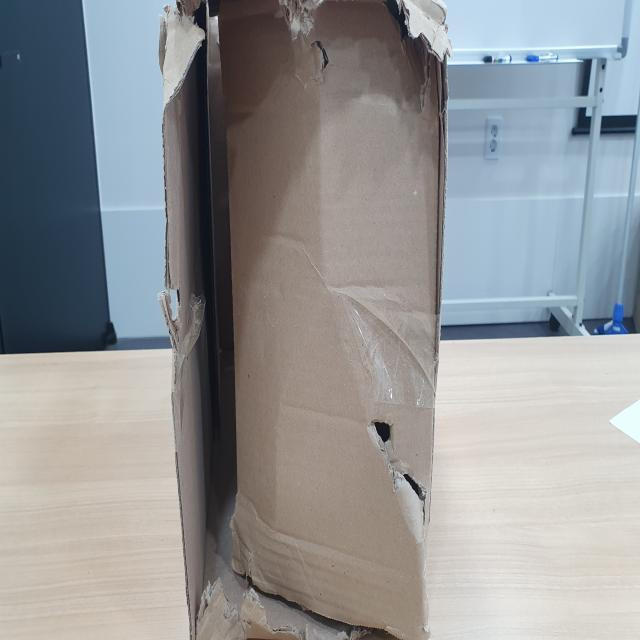hole: (399, 469, 427, 509), (368, 406, 395, 446)
